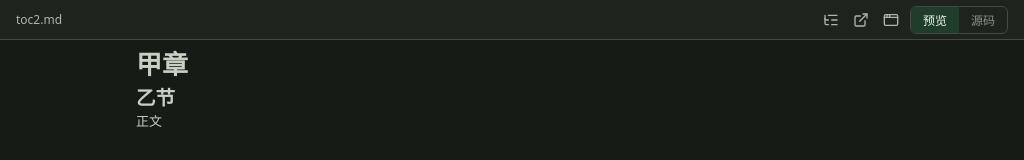
Scenario: FileView markdown TOC（design-markdown-preview §2.4） › 状态记忆（§2.4）：挂载恢复——默认显示态仍收起、折叠章节保持
The width and height of the screenshot is (1024, 160).
Click the button named "展开目录" at x=831, y=20, box [820,8,842,30]
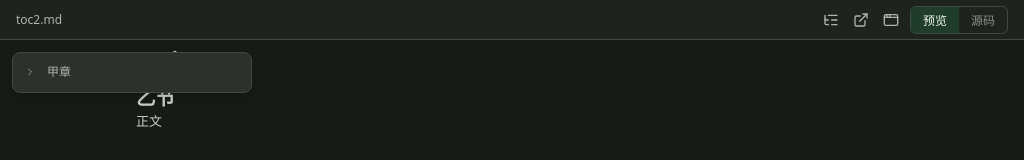
Expected: the navigation bar is shown, [21,61,243,84]
